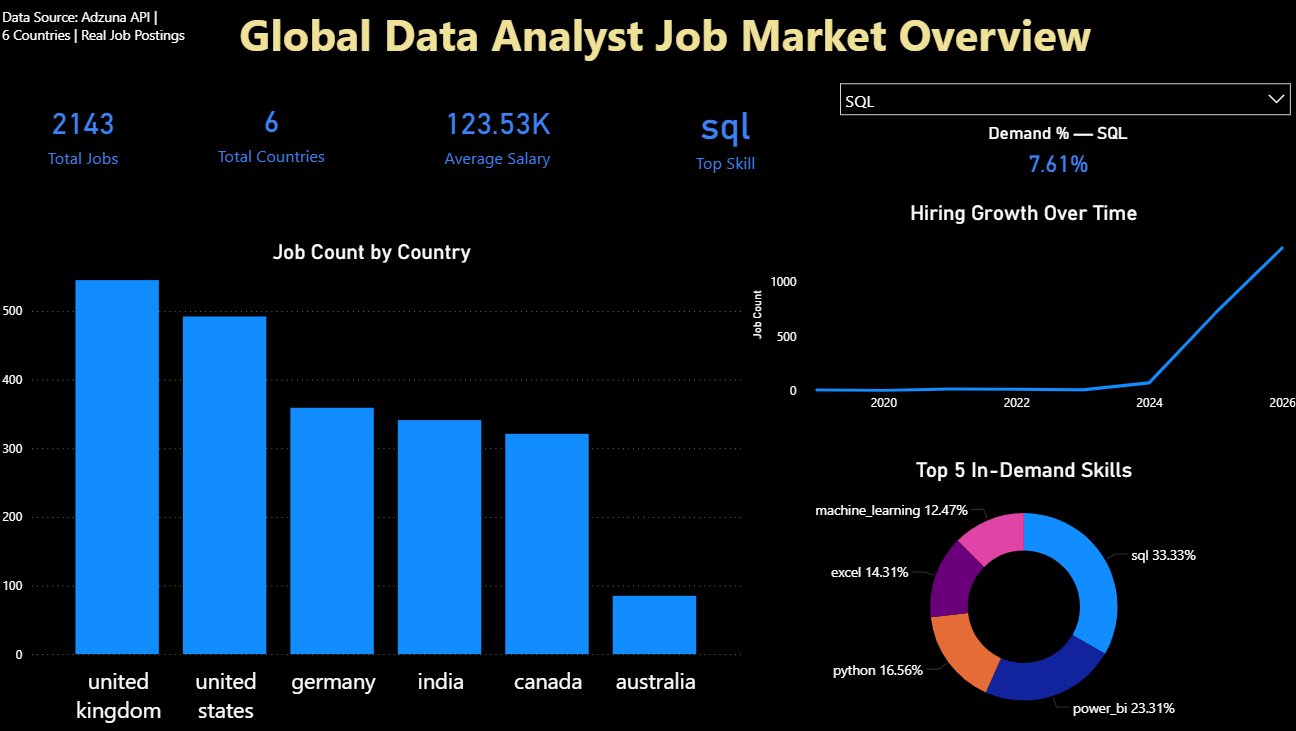

Layout of this report page (visuals, bound fields, positions):
{"tool":"powerbi","page":{"name":"Global Market Overview","canvas":[1280,720],"ordinal":0},"visuals":[{"type":"card","fields":{"Values":["Count(job_market jobs_clean.job_id)"]},"box":[0,81,169.3,100.6],"z":0},{"type":"card","fields":{"Values":["Count(job_market jobs_clean.country)"]},"box":[169.2,79.6,200.3,99.5],"z":1000},{"type":"card","fields":{"Values":["Avg(job_market jobs_clean.avg_salary)"]},"box":[369.3,81,244.2,100.6],"z":2000},{"type":"card","fields":{"Values":["job_market jobs_clean.Top Skill"]},"box":[613.5,81,203.7,100.6],"z":3000},{"type":"slicer","fields":{"Values":["Skill Selector.Skill"]},"box":[817.3,72.1,462.8,48.5],"z":4000},{"type":"card","fields":{"Values":["job_market jobs_clean.Selected Skill %"]},"box":[817.2,121.5,449.1,60.1],"z":5000},{"type":"textbox","box":[232.6,0,1006.4,72.1],"z":6000},{"type":"columnChart","title":"Job Count by Country","fields":{"Category":["job_market jobs_clean.country"],"Y":["CountNonNull(job_market jobs_clean.job_id)"]},"box":[0,235.6,736.2,484.7],"z":7000},{"type":"lineChart","title":"Hiring Growth Over Time","fields":{"Category":["job_market hiring_trends.created_date.Variation.Date Hierarchy.Year","job_market hiring_trends.created_date.Variation.Date Hierarchy.Month"],"Y":["Sum(job_market hiring_trends.job_count)"]},"box":[736.2,197.5,543.6,217.2],"z":8000},{"type":"donutChart","title":"Top 5 In-Demand Skills","fields":{"Category":["job_market skill_demand_summary.skill"],"Y":["Sum(job_market skill_demand_summary.job_count)"]},"box":[735.8,450.1,543.9,269.8],"z":9000},{"type":"textbox","box":[0,3.7,201.2,49.1],"z":9001}]}

Visuals, with their boxes in screenshot pixels (x1, y1, x2, y2), scaled from the page's 1280x720 canvas onto the 1296x731 screenshot:
card - Count(job_market jobs_clean.job_id): {"left": 0, "top": 82, "right": 171, "bottom": 184}
card - Count(job_market jobs_clean.country): {"left": 171, "top": 81, "right": 374, "bottom": 182}
card - Avg(job_market jobs_clean.avg_salary): {"left": 374, "top": 82, "right": 621, "bottom": 184}
card - job_market jobs_clean.Top Skill: {"left": 621, "top": 82, "right": 827, "bottom": 184}
slicer - Skill Selector.Skill: {"left": 828, "top": 73, "right": 1295, "bottom": 122}
card - job_market jobs_clean.Selected Skill %: {"left": 827, "top": 123, "right": 1282, "bottom": 184}
textbox: {"left": 236, "top": 0, "right": 1254, "bottom": 73}
"Job Count by Country" columnChart: {"left": 0, "top": 239, "right": 745, "bottom": 730}
"Hiring Growth Over Time" lineChart: {"left": 745, "top": 201, "right": 1295, "bottom": 421}
"Top 5 In-Demand Skills" donutChart: {"left": 745, "top": 457, "right": 1295, "bottom": 730}
textbox: {"left": 0, "top": 4, "right": 204, "bottom": 54}
